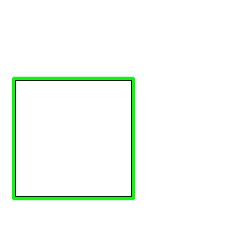line_segment: (12, 77, 135, 200)
